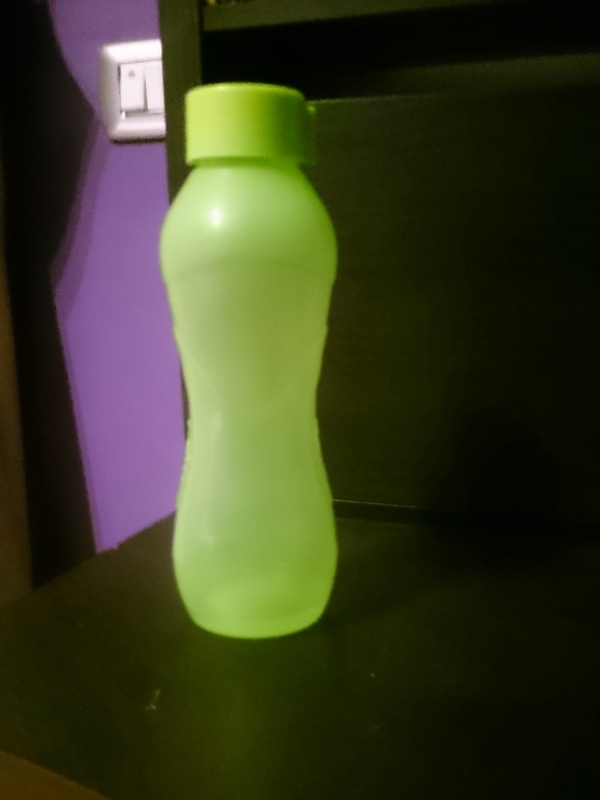my bottle: (156, 82, 343, 637)
